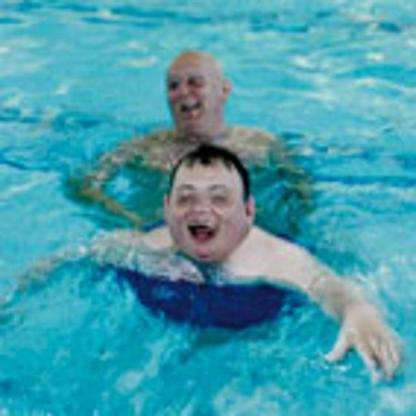face: (173, 170, 246, 261), (170, 64, 216, 128)
